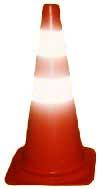traffic_cone: (4, 0, 96, 186)
